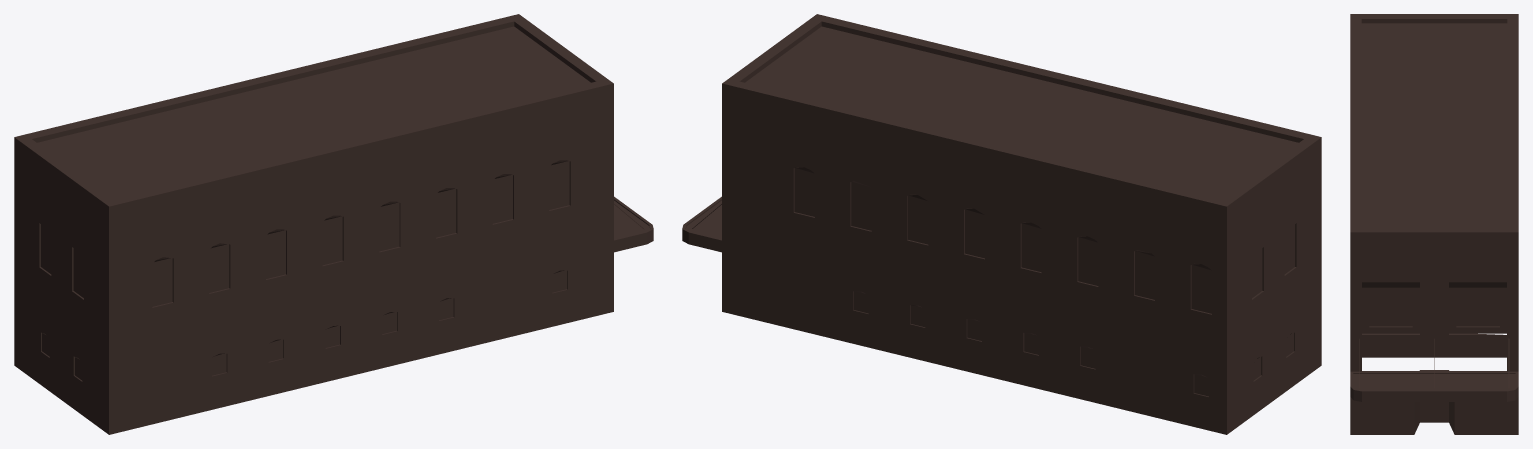
Rendered from brick-shop.lod2.glb.
The picture shows the model from 3 angles, left to right: view 1: azimuth 30°, elevation 25°; view 2: azimuth 150°, elevation 25°; view 3: azimuth 270°, elevation 25°; orthographic projection. The views are drawn at different scales.
Parts seen in each view (by area): view 1: Object_4; view 2: Object_4; view 3: Object_4.
Boxes of the visible parts, x1,y1,x2,y2 form: Object_4: [14, 14, 653, 434]; Object_4: [682, 14, 1321, 434]; Object_4: [1350, 14, 1518, 434].
Size of the model in its own units: 24.23 by 9.61 by 7.24.
